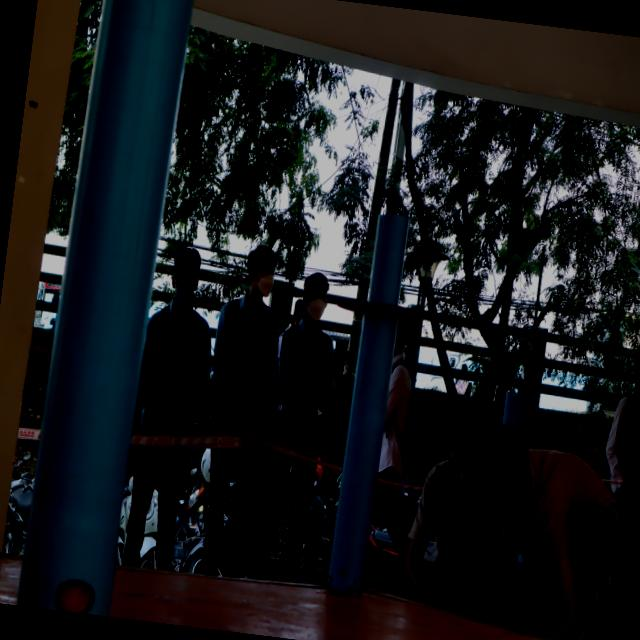pole: (342, 205, 436, 369)
